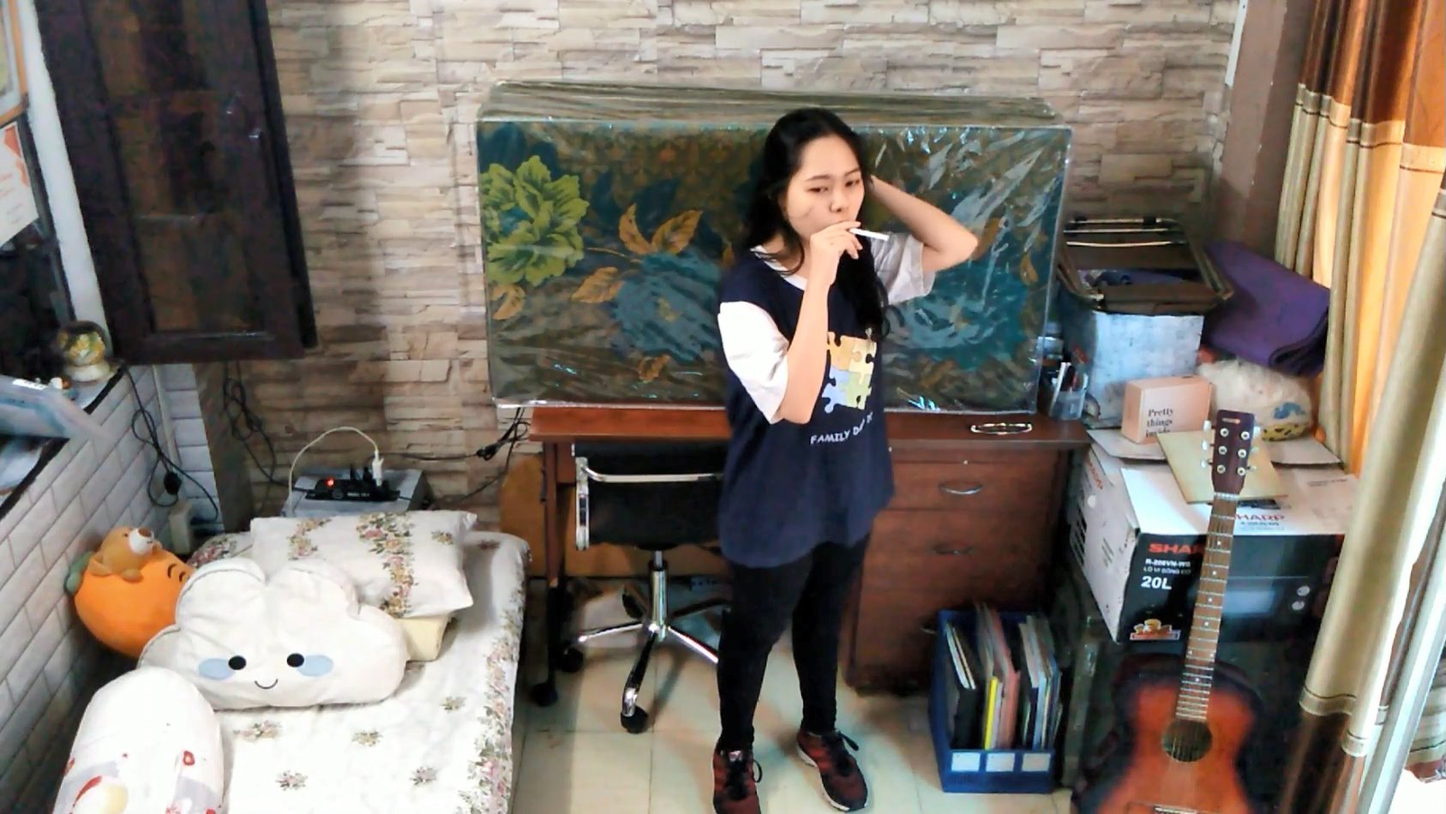cigarette: (843, 212, 895, 249)
person: (687, 102, 987, 814)
